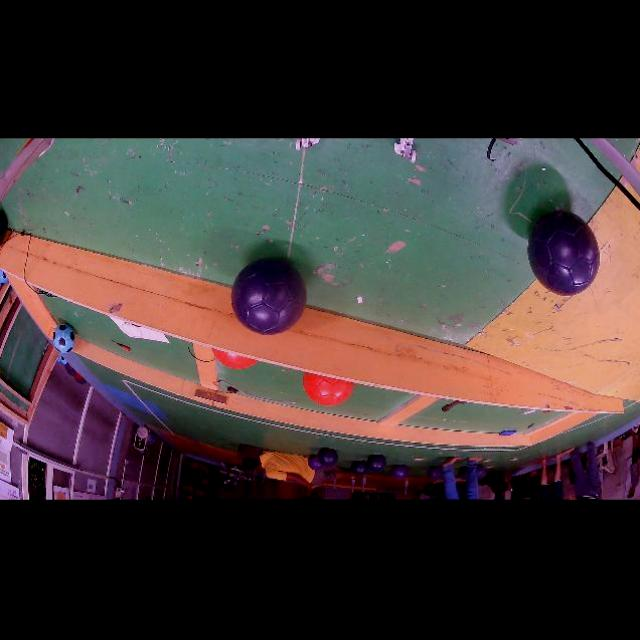B: (527, 210, 600, 296), (230, 258, 307, 335)
